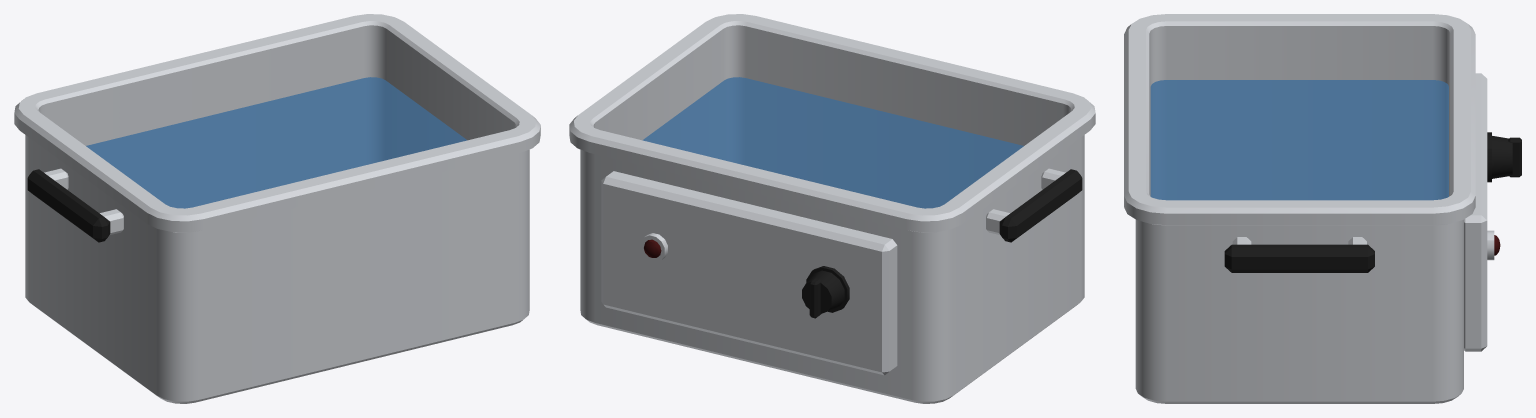
File: hervidor_chico.glb
3 views of the same model, side by side, from view 1: azimuth 30°, elevation 25°; view 2: azimuth 150°, elevation 25°; view 3: azimuth 270°, elevation 25° (orthographic). The views are drawn at different scales.
Parts seen in each view (by area): view 1: hervidor_chico_cuerpo, pieza_agua; view 2: hervidor_chico_cuerpo, pieza_agua; view 3: hervidor_chico_cuerpo, pieza_agua.
Part boxes in pixels (left/top/right/bottom): hervidor_chico_cuerpo: left=14, top=14, right=540, bottom=403; pieza_agua: left=86, top=77, right=467, bottom=208; hervidor_chico_cuerpo: left=569, top=14, right=1095, bottom=403; pieza_agua: left=642, top=77, right=1023, bottom=208; hervidor_chico_cuerpo: left=1124, top=14, right=1521, bottom=403; pieza_agua: left=1150, top=80, right=1448, bottom=200.
Bounding box in the file's own units: 0.452 × 0.192 × 0.344.
